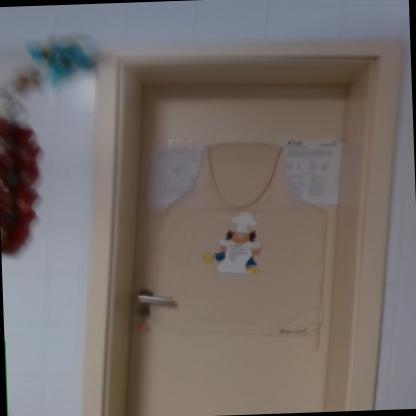closed: (94, 27, 413, 416)
